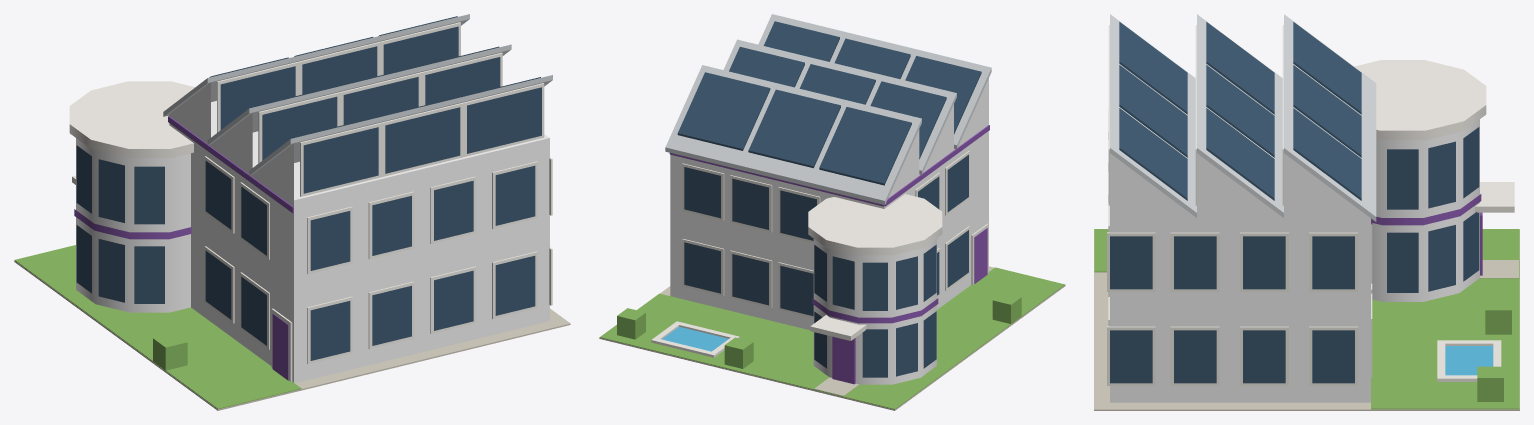
3 renders of one model, left to right at view 1: azimuth 30°, elevation 25°; view 2: azimuth 150°, elevation 25°; view 3: azimuth 270°, elevation 25°, orthographic. The views are drawn at different scales.
Visible parts, largest first — view 1: lab, window_glass (×18), window_band (×9), lawn (×2), reception, cornice, window_frame (×10), band_frame (×3), roof (×3), sawtooth_end, yard, tree_spot (+4 smaller); view 2: solar_panel (×9), window_glass (×18), lawn (×2), lab, roof (×3), cornice, reception, tree_spot (×3), window_frame (×4), sawtooth_end, door (×2), stripe (×2) (+5 smaller); view 3: window_glass (×14), lab, solar_panel (×9), lawn (×2), roof (×3), cornice, reception, sawtooth_end, window_frame (×8), yard, tree_spot (×2), pond (+3 smaller).
Boxes of the visible parts, box(x1,y1,x2,y2) form: lab: box(169, 101, 549, 383); window_glass (×18): box(76, 145, 535, 360); window_band (×9): box(220, 26, 541, 193); lawn (×2): box(14, 245, 301, 409); reception: box(76, 138, 190, 312); cornice: box(69, 81, 194, 157); window_frame (×10): box(204, 156, 537, 364); band_frame (×3): box(217, 22, 544, 196); roof (×3): box(163, 14, 552, 175); sawtooth_end: box(173, 82, 293, 199); yard: box(14, 260, 570, 410); tree_spot: box(153, 333, 187, 370); solar_panel (×9): box(677, 21, 981, 185); window_glass (×18): box(684, 155, 968, 377); lawn (×2): box(599, 267, 1065, 409); lab: box(670, 119, 988, 329); roof (×3): box(665, 14, 991, 204); cornice: box(808, 194, 942, 255); reception: box(813, 239, 936, 384); tree_spot (×3): box(617, 292, 1021, 368); window_frame (×4): box(682, 163, 772, 307); sawtooth_end: box(892, 78, 988, 189); door (×2): box(832, 228, 987, 384); stripe (×2): box(669, 125, 989, 206); window_glass (×14): box(1110, 127, 1479, 383); lab: box(1110, 211, 1370, 402); solar_panel (×9): box(1119, 22, 1361, 200); lawn (×2): box(1094, 229, 1519, 409); roof (×3): box(1110, 14, 1376, 221); cornice: box(1354, 60, 1486, 140); reception: box(1372, 119, 1479, 301); sawtooth_end: box(1110, 153, 1360, 211); window_frame (×8): box(1107, 232, 1357, 385); yard: box(1094, 230, 1519, 410); tree_spot (×2): box(1477, 299, 1511, 401); pond: box(1445, 346, 1493, 375).
Bounding box in the file's own units: 16 × 10.7 × 16.
